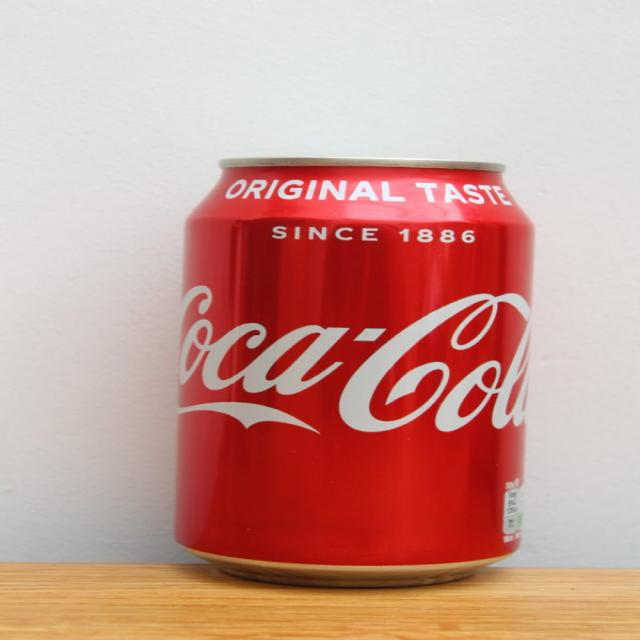cocacola: (177, 150, 530, 588)
